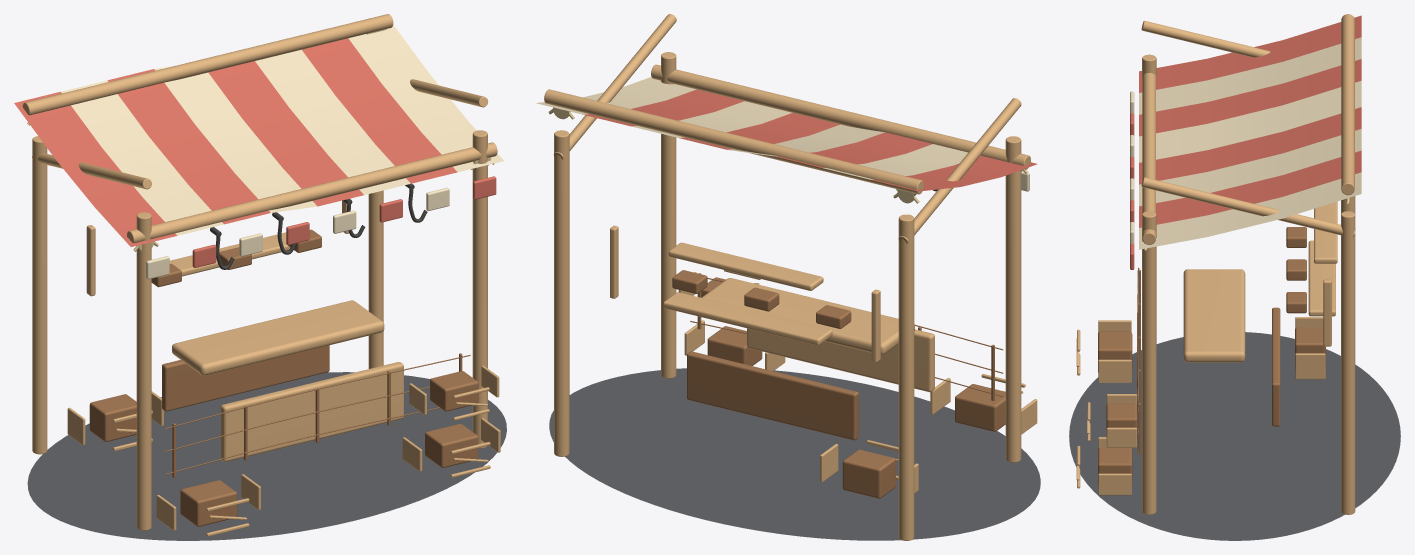
The model's file is village-market-stall.glb.
The picture shows the model from 3 angles, left to right: view 1: azimuth 30°, elevation 25°; view 2: azimuth 150°, elevation 25°; view 3: azimuth 270°, elevation 25°; orthographic projection. The views are drawn at different scales.
Parts seen in each view (by area): view 1: BASE_BakedSoftContactShadow, PROP_VillageMarketStall_CounterFrontPanel, PROP_VillageMarketStall_CounterTop_BeveledLightWood, PROP_VillageMarketStall_AwningStripe_06_Cream, PROP_VillageMarketStall_AwningStripe_07_Red, PROP_VillageMarketStall_AwningStripe_05_Red, PROP_VillageMarketStall_AwningStripe_03_Red, PROP_VillageMarketStall_AwningStripe_02_Cream, PROP_VillageMarketStall_AwningStripe_04_Cream, PROP_VillageMarketStall_AwningStripe_01_Red, PROP_VillageMarketStall_AwningStripe_08_Cream, PROP_VillageMarketStall_BackCanopyBeam (+14 smaller); view 2: BASE_BakedSoftContactShadow, PROP_VillageMarketStall_CounterBackBrace, PROP_VillageMarketStall_BackCanopyBeam, PROP_VillageMarketStall_BackLeft_CanopyPost, PROP_VillageMarketStall_FrontLeft_CanopyPost, PROP_VillageMarketStall_BackRight_CanopyPost, PROP_VillageMarketStall_FrontCanopyBeam, PROP_VillageMarketStall_CounterFrontPanel, PROP_VillageMarketStall_CounterTop_BeveledLightWood, PROP_VillageMarketStall_FrontRight_CanopyPost, PROP_VillageMarketStall_LowerDisplayShelf, PROP_VillageMarketStall_UpperDisplayShelf (+18 smaller); view 3: BASE_BakedSoftContactShadow, PROP_VillageMarketStall_CounterTop_BeveledLightWood, PROP_VillageMarketStall_AwningStripe_04_Cream, PROP_VillageMarketStall_BackRight_CanopyPost, PROP_VillageMarketStall_AwningStripe_02_Cream, PROP_VillageMarketStall_AwningStripe_03_Red, PROP_VillageMarketStall_AwningStripe_05_Red, PROP_VillageMarketStall_FrontRight_CanopyPost, PROP_VillageMarketStall_AwningStripe_08_Cream, PROP_VillageMarketStall_AwningStripe_01_Red, PROP_VillageMarketStall_AwningStripe_06_Cream, PROP_VillageMarketStall_AwningStripe_07_Red (+20 smaller).
Boxes of the visible parts, <box> form: BASE_BakedSoftContactShadow: <box>27,372,506,540</box>; PROP_VillageMarketStall_CounterFrontPanel: <box>220,362,403,461</box>; PROP_VillageMarketStall_CounterTop_BeveledLightWood: <box>172,300,384,375</box>; PROP_VillageMarketStall_AwningStripe_06_Cream: <box>255,49,410,194</box>; PROP_VillageMarketStall_AwningStripe_07_Red: <box>302,38,457,183</box>; PROP_VillageMarketStall_AwningStripe_05_Red: <box>208,61,363,206</box>; PROP_VillageMarketStall_AwningStripe_03_Red: <box>107,69,270,224</box>; PROP_VillageMarketStall_AwningStripe_02_Cream: <box>61,80,223,235</box>; PROP_VillageMarketStall_AwningStripe_04_Cream: <box>154,66,317,212</box>; PROP_VillageMarketStall_AwningStripe_01_Red: <box>14,91,177,246</box>; PROP_VillageMarketStall_AwningStripe_08_Cream: <box>348,25,503,172</box>; PROP_VillageMarketStall_BackCanopyBeam: <box>22,14,393,115</box>; BASE_BakedSoftContactShadow: <box>549,368,1040,540</box>; PROP_VillageMarketStall_CounterBackBrace: <box>687,351,858,440</box>; PROP_VillageMarketStall_BackCanopyBeam: <box>544,89,924,194</box>; PROP_VillageMarketStall_BackLeft_CanopyPost: <box>898,214,914,540</box>; PROP_VillageMarketStall_FrontLeft_CanopyPost: <box>1005,136,1021,462</box>; PROP_VillageMarketStall_BackRight_CanopyPost: <box>554,130,569,456</box>; PROP_VillageMarketStall_FrontCanopyBeam: <box>651,64,1030,169</box>; PROP_VillageMarketStall_CounterFrontPanel: <box>747,328,934,392</box>; PROP_VillageMarketStall_CounterTop_BeveledLightWood: <box>701,278,914,354</box>; PROP_VillageMarketStall_FrontRight_CanopyPost: <box>661,52,676,378</box>; PROP_VillageMarketStall_LowerDisplayShelf: <box>663,292,832,345</box>; PROP_VillageMarketStall_UpperDisplayShelf: <box>668,242,823,290</box>; BASE_BakedSoftContactShadow: <box>1069,332,1400,540</box>; PROP_VillageMarketStall_CounterTop_BeveledLightWood: <box>1183,269,1245,362</box>; PROP_VillageMarketStall_AwningStripe_04_Cream: <box>1139,80,1361,162</box>; PROP_VillageMarketStall_BackRight_CanopyPost: <box>1341,211,1355,514</box>; PROP_VillageMarketStall_AwningStripe_02_Cream: <box>1139,37,1361,114</box>; PROP_VillageMarketStall_AwningStripe_03_Red: <box>1139,59,1361,136</box>; PROP_VillageMarketStall_AwningStripe_05_Red: <box>1139,107,1361,184</box>; PROP_VillageMarketStall_FrontRight_CanopyPost: <box>1142,211,1156,514</box>; PROP_VillageMarketStall_AwningStripe_08_Cream: <box>1139,172,1361,249</box>; PROP_VillageMarketStall_AwningStripe_01_Red: <box>1139,15,1361,92</box>; PROP_VillageMarketStall_AwningStripe_06_Cream: <box>1139,129,1361,206</box>; PROP_VillageMarketStall_AwningStripe_07_Red: <box>1139,150,1361,227</box>.
Size of the model in its own units: 2.87 by 2.18 by 1.94.
